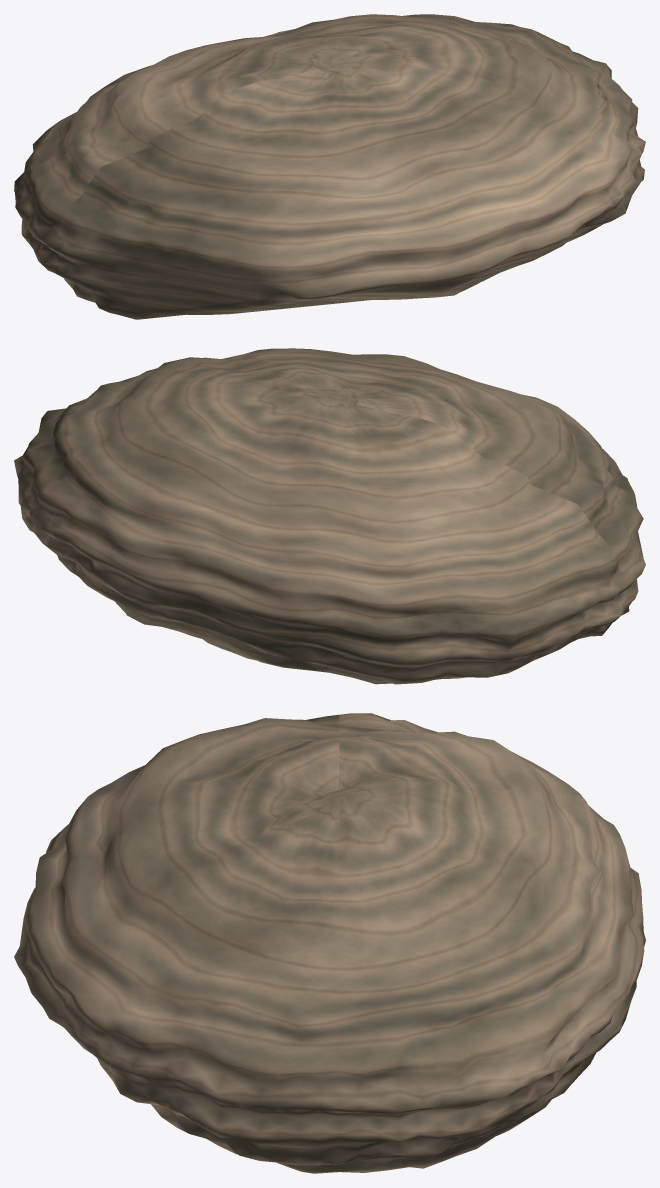
File: PZ_R03_Low_Sediment_Slab_Sediment.glb
3 renders of one model, top to bottom at view 1: azimuth 30°, elevation 25°; view 2: azimuth 150°, elevation 25°; view 3: azimuth 270°, elevation 25°, orthographic. The views are drawn at different scales.
Parts seen in each view (by area): view 1: RENDER_R03_Low_Sediment_Slab_Sediment; view 2: RENDER_R03_Low_Sediment_Slab_Sediment; view 3: RENDER_R03_Low_Sediment_Slab_Sediment.
Boxes of the visible parts, <box> form: RENDER_R03_Low_Sediment_Slab_Sediment: <box>14,14,645,319</box>; RENDER_R03_Low_Sediment_Slab_Sediment: <box>14,348,645,684</box>; RENDER_R03_Low_Sediment_Slab_Sediment: <box>14,713,645,1173</box>.
Size of the model in its own units: 0.85 by 0.29 by 0.64.
1 material, 1 textured.
